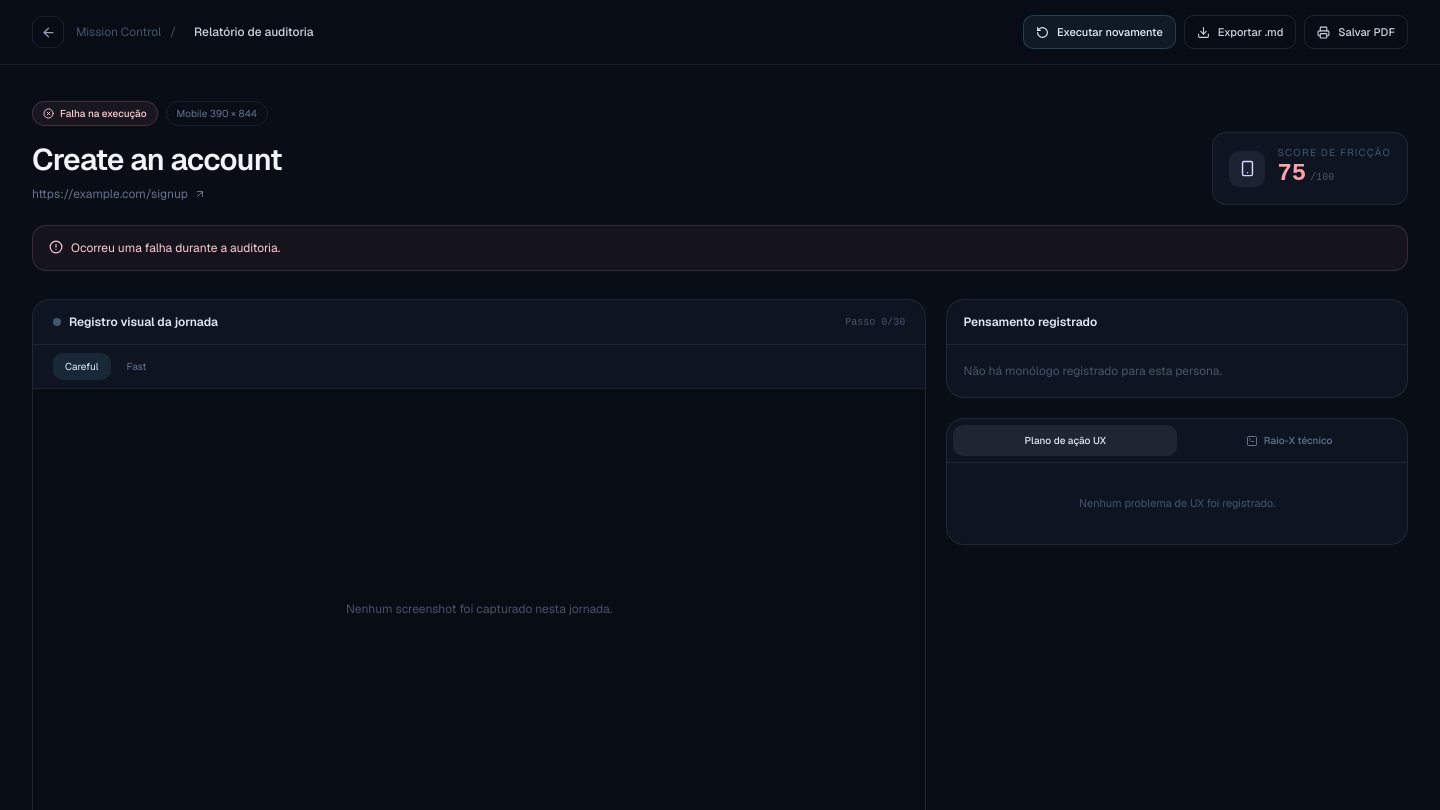
Scenario: RunReport › retries completed or failed reports and displays retry errors
The width and height of the screenshot is (1440, 810).
Later steps or results of the test are not shown.
Check: the message "Ocorreu uma falha durante a auditoria." is shown, box [32, 225, 1408, 271]
What coordinates should you click on to do the following:
click the button "Executar novamente"
I would click on:
 (1099, 32)
Its box is [1023, 15, 1176, 49].
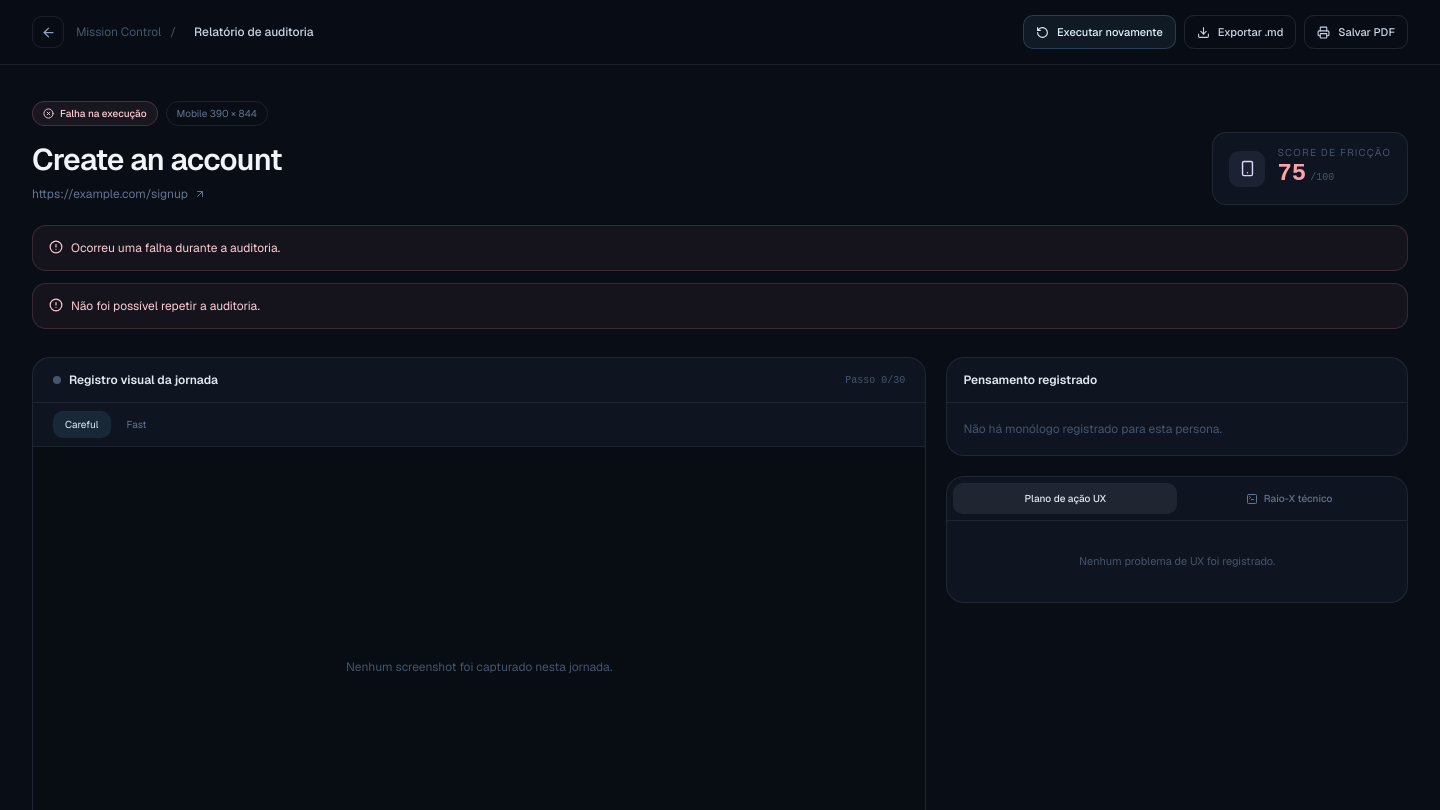
Check: the message "Não foi possível repetir a auditoria." is shown, box [32, 283, 1408, 329]
